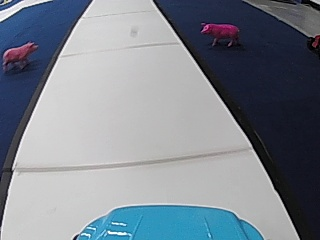pig: (198, 19, 241, 48), (1, 39, 37, 73)
